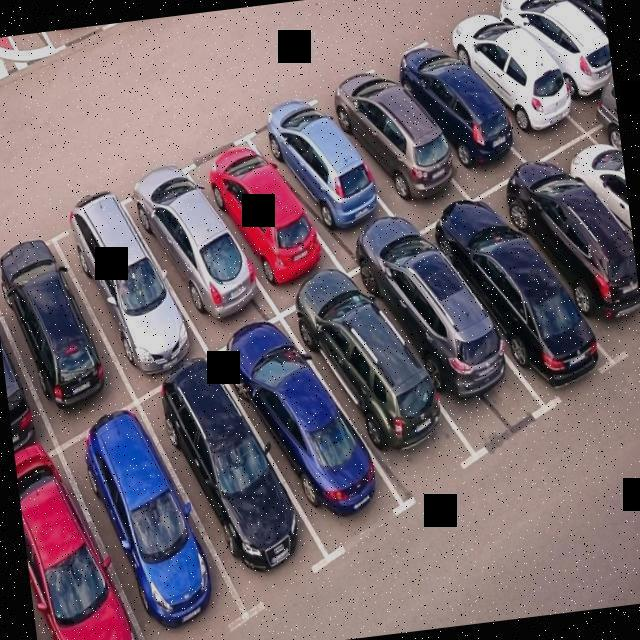car: (217, 302, 396, 554), (143, 342, 309, 600), (430, 186, 608, 416), (373, 225, 535, 458), (302, 263, 458, 498), (62, 413, 221, 640), (493, 148, 640, 373), (15, 452, 142, 640), (0, 223, 111, 437), (68, 189, 183, 389), (134, 146, 248, 346), (202, 127, 314, 303), (268, 88, 376, 268), (339, 61, 458, 222), (400, 25, 506, 193), (448, 0, 562, 150), (559, 126, 640, 319), (512, 0, 616, 125), (0, 263, 39, 477), (547, 0, 612, 81)
